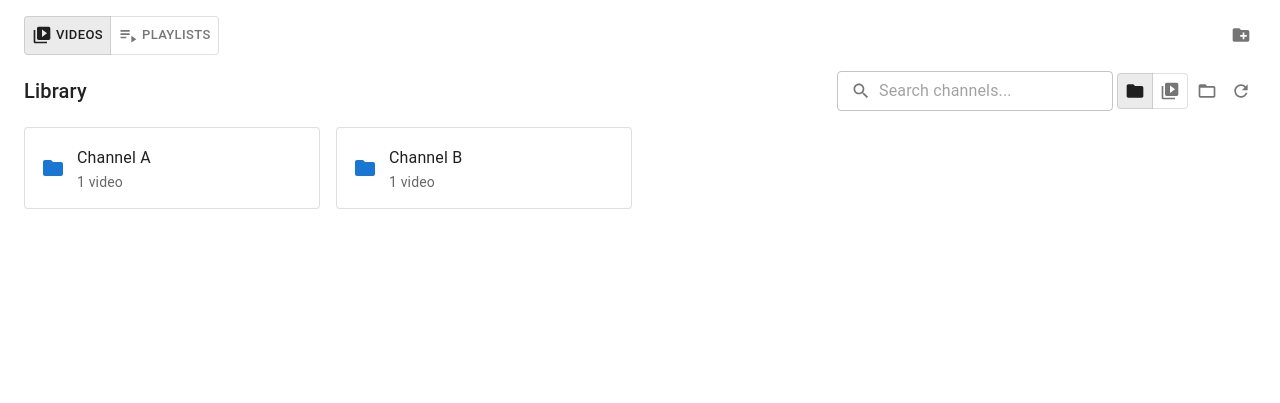
Test case: LibraryScreen › drills into a channel, shows its videos, and back returns to the channel list
Click the heading "Channel A" at (114, 158), box [77,144,151,172]
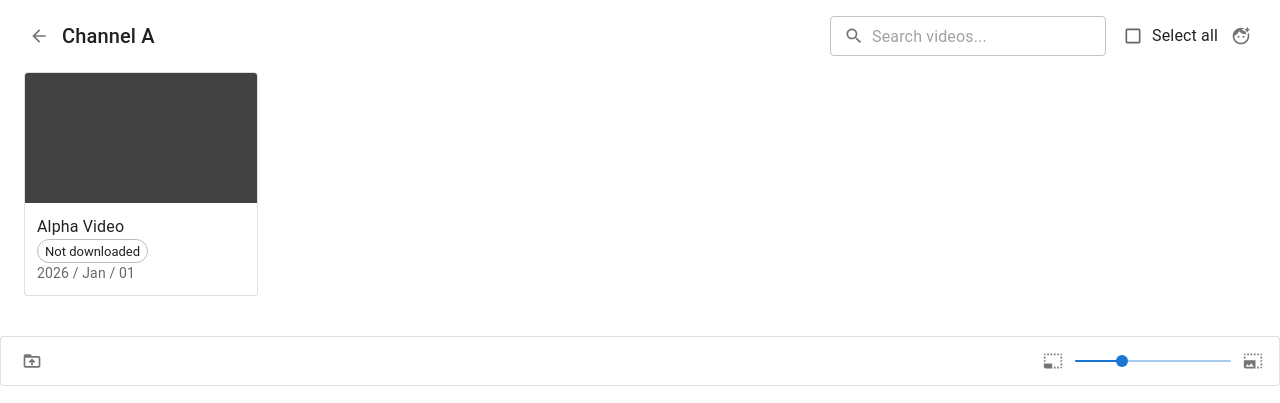
Result: the text "Alpha Video" is shown at [37,217,124,236]
Result: the button "Channel B" is gone
Click the button named "Back to channels" at (39, 36), box [24,21,54,51]
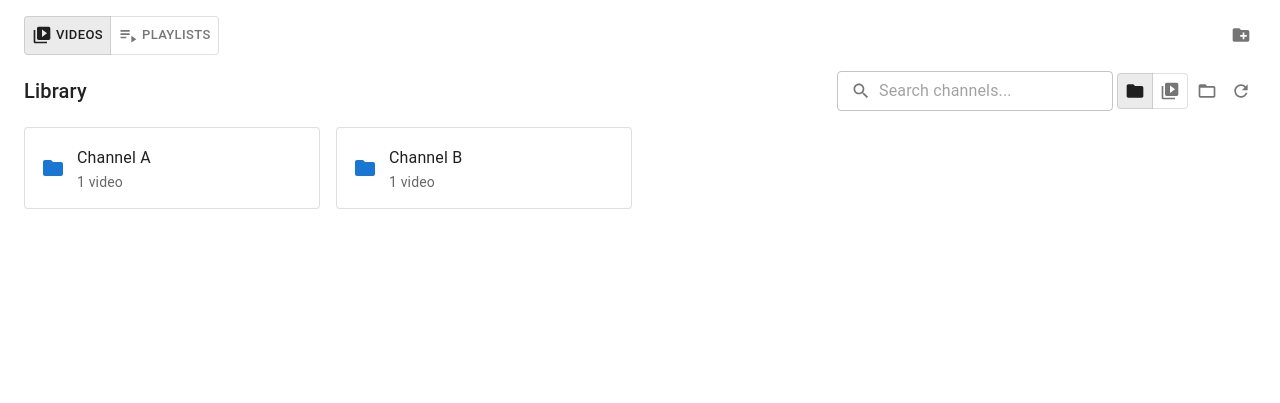
Expected: the heading "Channel A" is shown, [77,144,151,172]
Result: the heading "Channel B" is shown at [389,144,462,172]
